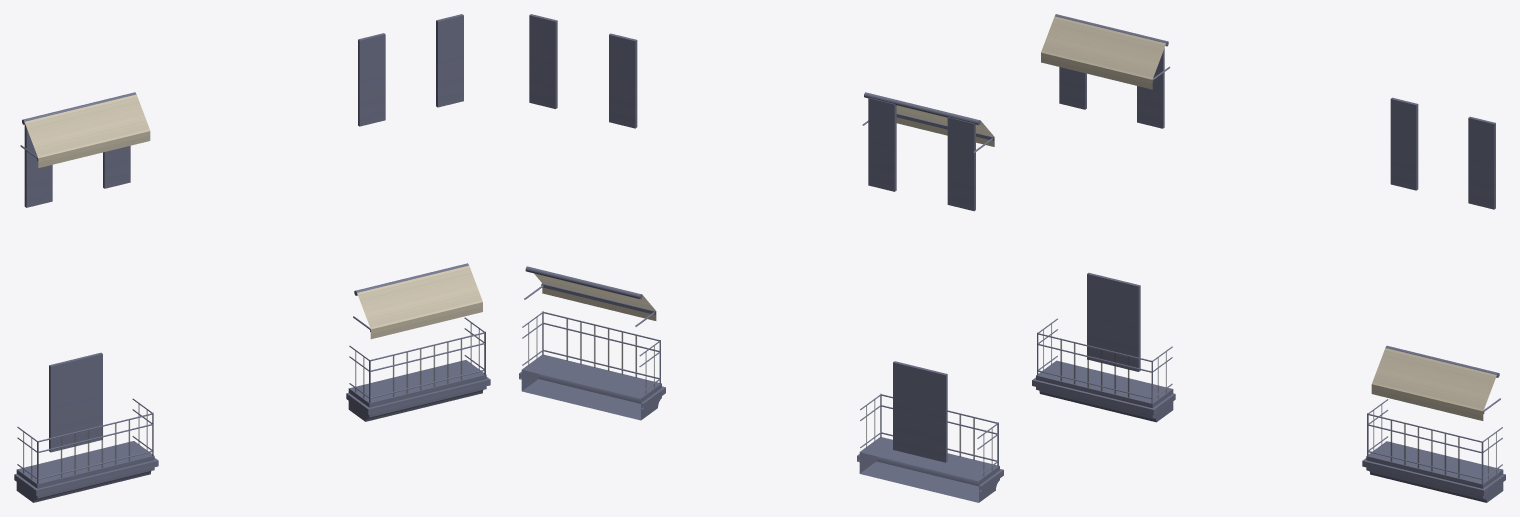
The model's file is objects_un_t06building03_wa2.gltf.
3 renders of one model, left to right at view 1: azimuth 30°, elevation 25°; view 2: azimuth 150°, elevation 25°; view 3: azimuth 330°, elevation 25°, orthographic. The views are drawn at different scales.
Parts seen in each view (by area): view 1: objects_un_t06building03_wa2_mesh_shape:objects_un_t06buildi (×3); view 2: objects_un_t06building03_wa2_mesh_shape:objects_un_t06buildi (×3); view 3: objects_un_t06building03_wa2_mesh_shape:objects_un_t06buildi (×3).
Part boxes in pixels (x1,y1,x2,y2): objects_un_t06building03_wa2_mesh_shape:objects_un_t06buildi (×3): [14, 14, 490, 502]; objects_un_t06building03_wa2_mesh_shape:objects_un_t06buildi (×3): [519, 14, 1003, 502]; objects_un_t06building03_wa2_mesh_shape:objects_un_t06buildi (×3): [1032, 14, 1505, 502].
Size of what is drawn, in the model's own units: 8.91 by 6.99 by 0.7509.
Materials: 3 (3 with a texture image).
